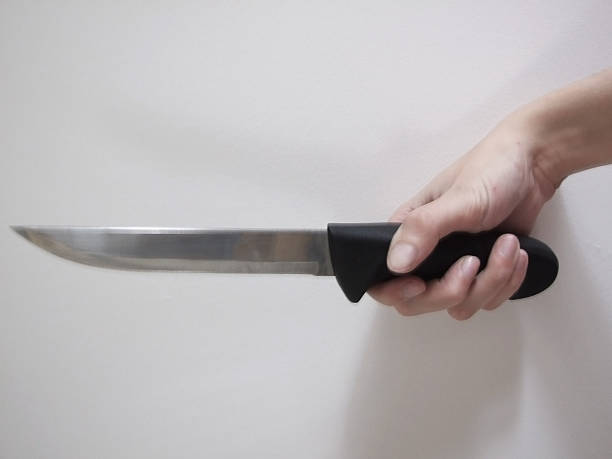knife: (6, 220, 562, 305)
